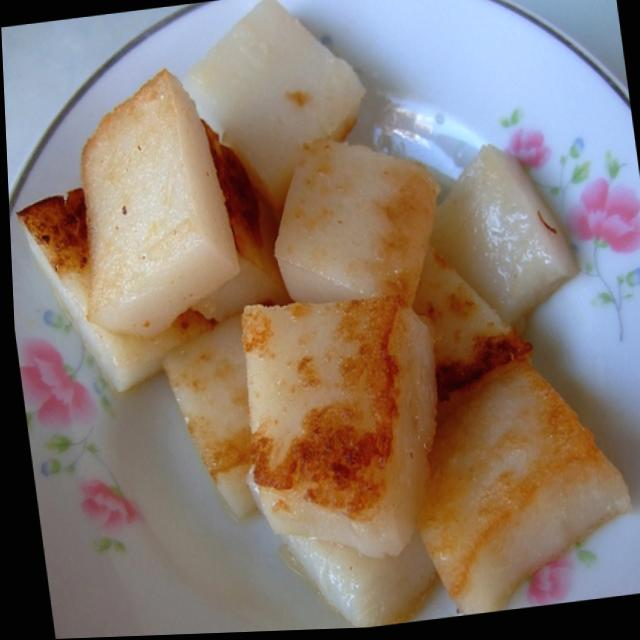蛋糕甜品: (28, 6, 627, 639)
